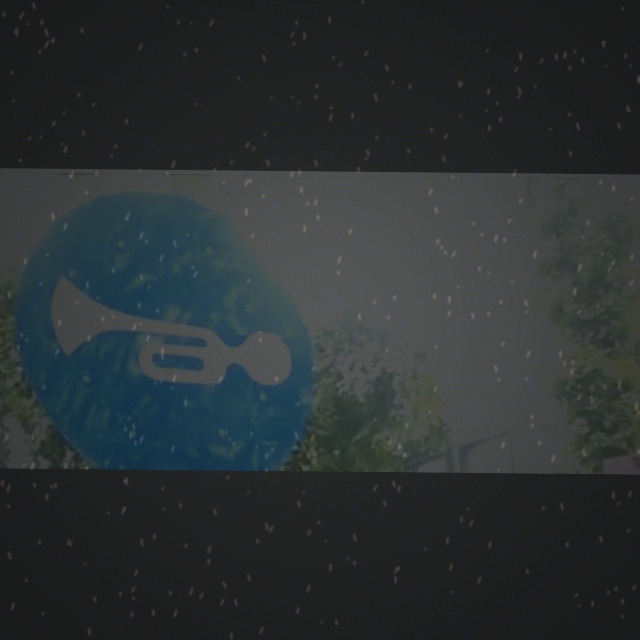Compulsory_Sound_Horn: (27, 195, 323, 463)
